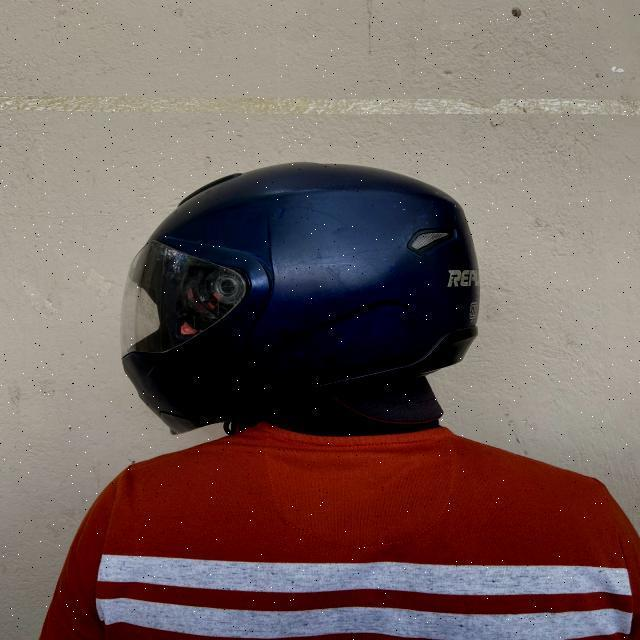helmet: (118, 162, 481, 439)
